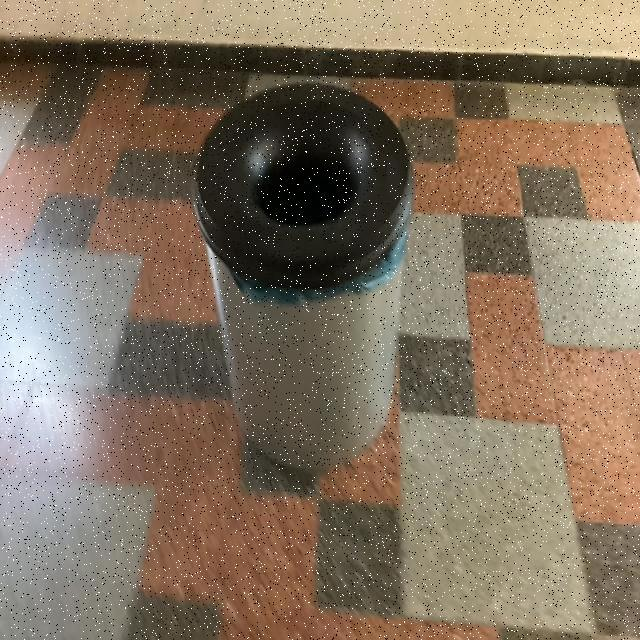garbage container: (135, 52, 451, 510)
